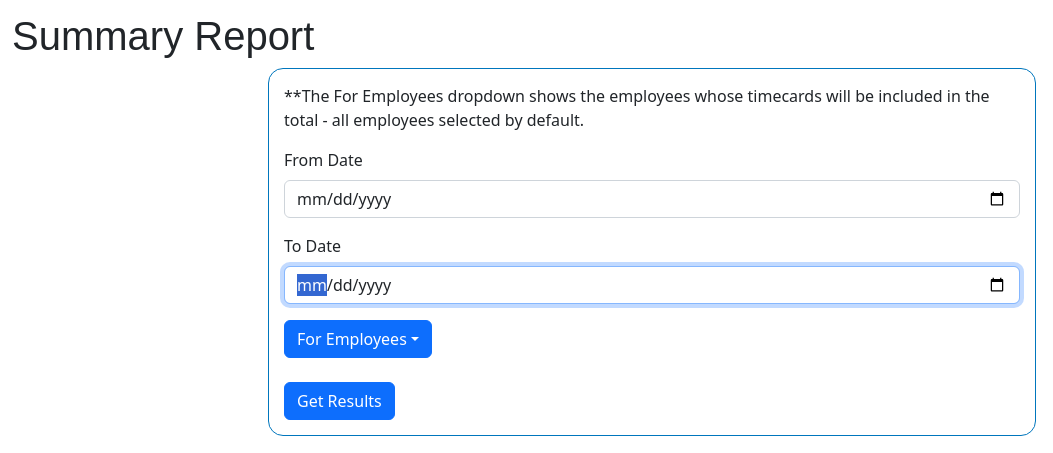
Shows the appropriate employees to potentially omit
Click the button with test id "forEmployeesDropdown" at (358, 339), box x1=284 y1=320 x2=432 y2=358
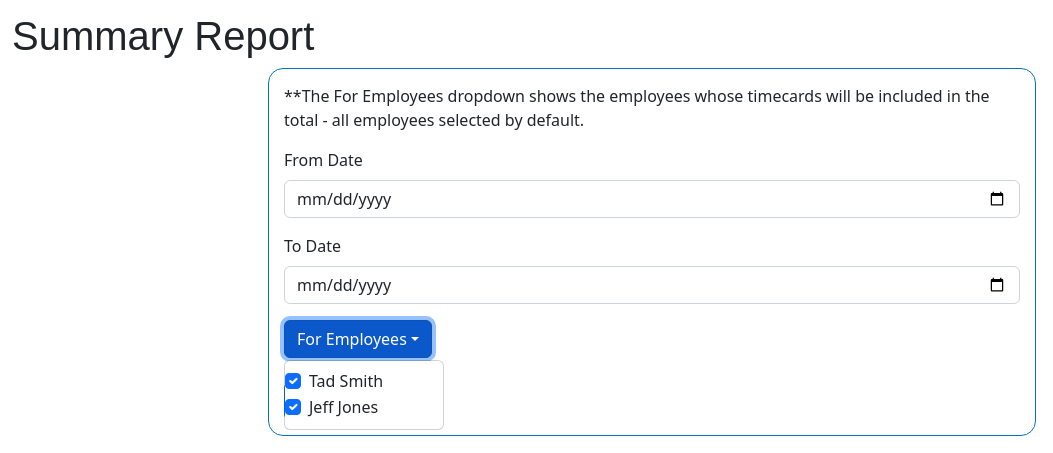
Expected: the text "Tad Smith" is shown, x1=309 y1=369 x2=383 y2=393
Expected: the text "Jeff Jones" is shown, x1=309 y1=395 x2=378 y2=419
